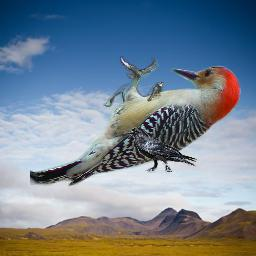Crow: (124, 127, 200, 174)
Cuckoo: (147, 82, 164, 102)
Woodpecker: (30, 56, 244, 189)
